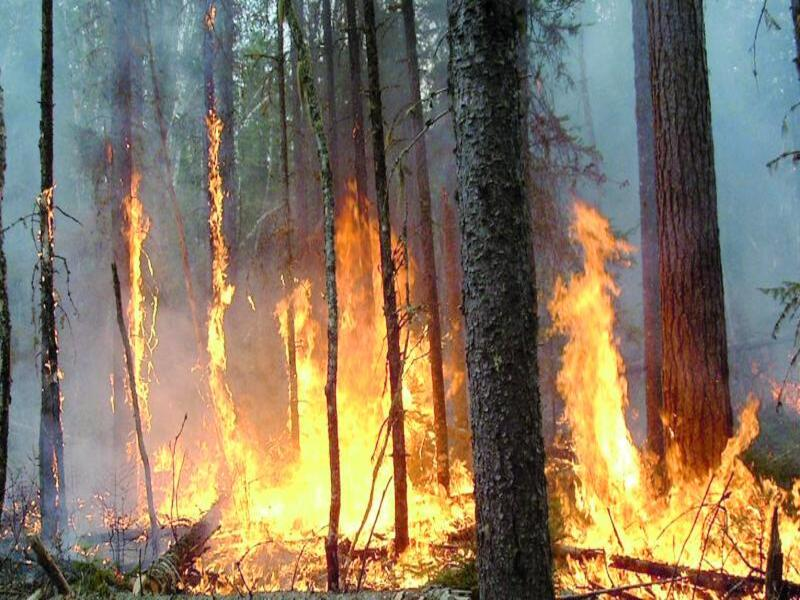fire: (207, 245, 761, 585)
